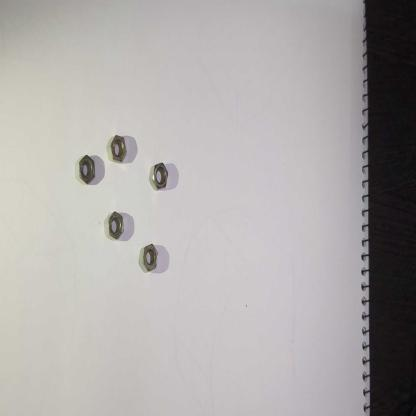NUTS: (150, 160, 171, 196), (78, 152, 97, 188), (107, 208, 126, 244), (110, 133, 128, 167), (141, 242, 159, 276)
